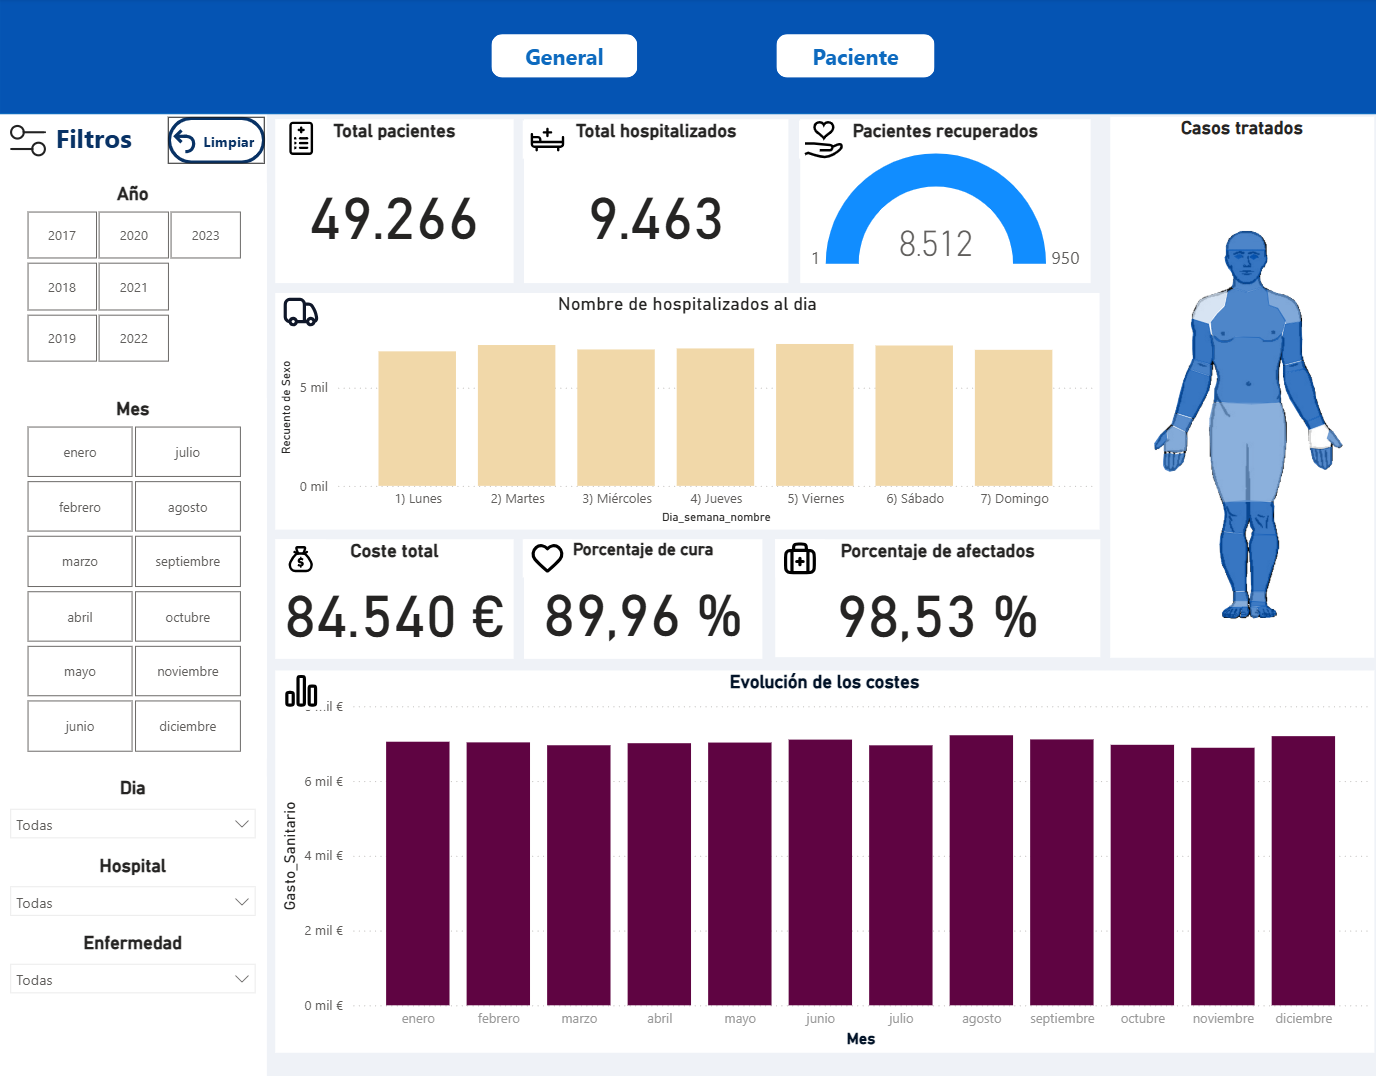

This screenshot's page, from the dashboard's own definition file:
{"tool":"powerbi","page":{"name":"Página 1","canvas":[1280,1000],"ordinal":0},"visuals":[{"type":"shape","box":[0,107,247,893],"z":0},{"type":"card","title":"Total pacientes","fields":{"Values":["Medidas.Total_pacientes"]},"box":[255,112,220,151],"z":1000},{"type":"card","title":" Total hospitalizados","fields":{"Values":["Medidas.Porcentaje_hospitalizacion"]},"box":[484,112,244,151],"z":2000},{"type":"columnChart","title":"Nombre de hospitalizados al dia","fields":{"Category":["Datos_Paciente_&_Hospital_&_Fecha_Ingreso.Dia_semana_nombre"],"Y":["CountNonNull(Datos_Paciente_&_Hospital_&_Fecha_Ingreso.Sexo)"]},"box":[255,272,761,218],"z":3000},{"type":"gauge","title":"Pacientes recuperados","fields":{"MaxValue":["Medidas.Porcentaje_mortalidad"],"MinValue":["Medidas.Valor_minimo"],"Y":["Medidas.Tasa_supervivencia"]},"box":[739,112,268,151],"z":4000},{"type":"PBI_CV_815282F9_27F5_4950_9430_E910E0A8DB6A","title":"Casos tratados","fields":{"Category":["Partes_cuerpo.Partes_cuerpo"],"Y":["CountNonNull(ID_Partes_Cuerpo_&_ID_Paciente.ID_Partes_cuerpo)"]},"box":[1026,110,243,499],"z":5000},{"type":"columnChart","title":"Evolución de los costes","fields":{"Category":["Datos_Paciente_&_Hospital_&_Fecha_Ingreso.Fecha.Variación.Jerarquía de fechas.Mes"],"Y":["Medidas.Gasto_Sanitario"]},"box":[255,621,1014,353],"z":6000},{"type":"card","title":"Coste total","fields":{"Values":["Medidas.Gasto_Sanitario"]},"box":[255,499,220,110],"z":7000},{"type":"card","title":"Porcentaje de cura","fields":{"Values":["Medidas.Porcentaje_cura"]},"box":[484,499,220,110],"z":8000},{"type":"card","title":"Porcentaje de afectados","fields":{"Values":["Medidas.Total_poblacion_hospitalizada"]},"box":[716,500,300,109],"z":9000},{"type":"shape","box":[0,0,1279.4,107.2],"z":10000},{"type":"slicer","title":"Año","fields":{"Values":["Datos_Paciente_&_Hospital_&_Fecha_Ingreso.Fecha.Variación.Jerarquía de fechas.Año"]},"box":[0,170.7,247,172],"z":11000},{"type":"slicer","title":"Mes","fields":{"Values":["Datos_Paciente_&_Hospital_&_Fecha_Ingreso.Fecha.Variación.Jerarquía de fechas.Mes"]},"box":[0,368.7,247,333],"z":12000},{"type":"slicer","title":"Dia","fields":{"Values":["Datos_Paciente_&_Hospital_&_Fecha_Ingreso.Fecha.Variación.Jerarquía de fechas.Día"]},"box":[0,718.3,247,72],"z":13000},{"type":"slicer","title":"Hospital","fields":{"Values":["Hospitales.Nombre Centro"]},"box":[0,790.3,247,72],"z":14000},{"type":"slicer","title":"Enfermedad","fields":{"Values":["Enfermedad_&_Organo_Afectado.Enfermedad"]},"box":[0,862.3,247,72],"z":15000},{"type":"group","id":"g1","title":"Grupo 1","box":[155.7,110,100,43.3],"z":16000},{"type":"actionButton","box":[155.7,116.7,100,31.1],"z":16000,"group":"g1"},{"type":"actionButton","box":[1,108.9,51.1,46.7],"z":17000},{"type":"shape","box":[155.7,110,90,43.3],"z":17000,"group":"g1"},{"type":"textbox","box":[47.7,108.9,92.2,47.8],"z":18000},{"type":"actionButton","box":[454.8,33.1,134.5,39.9],"z":19000},{"type":"actionButton","box":[717.1,33.1,146,39.9],"z":20000},{"type":"actionButton","box":[256.6,111.7,45.6,35.3],"z":21000},{"type":"actionButton","box":[483.5,112.9,45.6,35.3],"z":22000},{"type":"actionButton","box":[738.9,112.9,45.6,35.3],"z":23000},{"type":"actionButton","box":[256.6,272.5,45.6,35.3],"z":24000},{"type":"actionButton","box":[256.6,499.4,45.6,35.3],"z":25000},{"type":"actionButton","box":[483.5,499.4,45.6,35.3],"z":26000},{"type":"actionButton","box":[716.1,499.4,45.6,35.3],"z":27000},{"type":"actionButton","box":[256.6,621.4,45.6,35.3],"z":28000}]}

Visuals, with their boxes in screenshot pixels (x1, y1, x2, y2), scaled from the page's 1280x1000 canvas onto the 1376x1076 screenshot:
shape: region(0, 115, 266, 1075)
"Total pacientes" card: region(274, 121, 511, 283)
" Total hospitalizados" card: region(520, 121, 783, 283)
"Nombre de hospitalizados al dia" columnChart: region(274, 293, 1092, 527)
"Pacientes recuperados" gauge: region(794, 121, 1083, 283)
"Casos tratados" PBI_CV_815282F9_27F5_4950_9430_E910E0A8DB6A: region(1103, 118, 1364, 655)
"Evolución de los costes" columnChart: region(274, 668, 1364, 1048)
"Coste total" card: region(274, 537, 511, 655)
"Porcentaje de cura" card: region(520, 537, 757, 655)
"Porcentaje de afectados" card: region(770, 538, 1092, 655)
shape: region(0, 0, 1375, 115)
"Año" slicer: region(0, 184, 266, 369)
"Mes" slicer: region(0, 397, 266, 755)
"Dia" slicer: region(0, 773, 266, 850)
"Hospital" slicer: region(0, 850, 266, 928)
"Enfermedad" slicer: region(0, 928, 266, 1005)
"Grupo 1" group: region(167, 118, 275, 165)
actionButton: region(167, 126, 275, 159)
actionButton: region(1, 117, 56, 167)
shape: region(167, 118, 264, 165)
textbox: region(51, 117, 150, 169)
actionButton: region(489, 36, 633, 79)
actionButton: region(771, 36, 928, 79)
actionButton: region(276, 120, 325, 158)
actionButton: region(520, 121, 569, 159)
actionButton: region(794, 121, 843, 159)
actionButton: region(276, 293, 325, 331)
actionButton: region(276, 537, 325, 575)
actionButton: region(520, 537, 569, 575)
actionButton: region(770, 537, 819, 575)
actionButton: region(276, 669, 325, 707)
